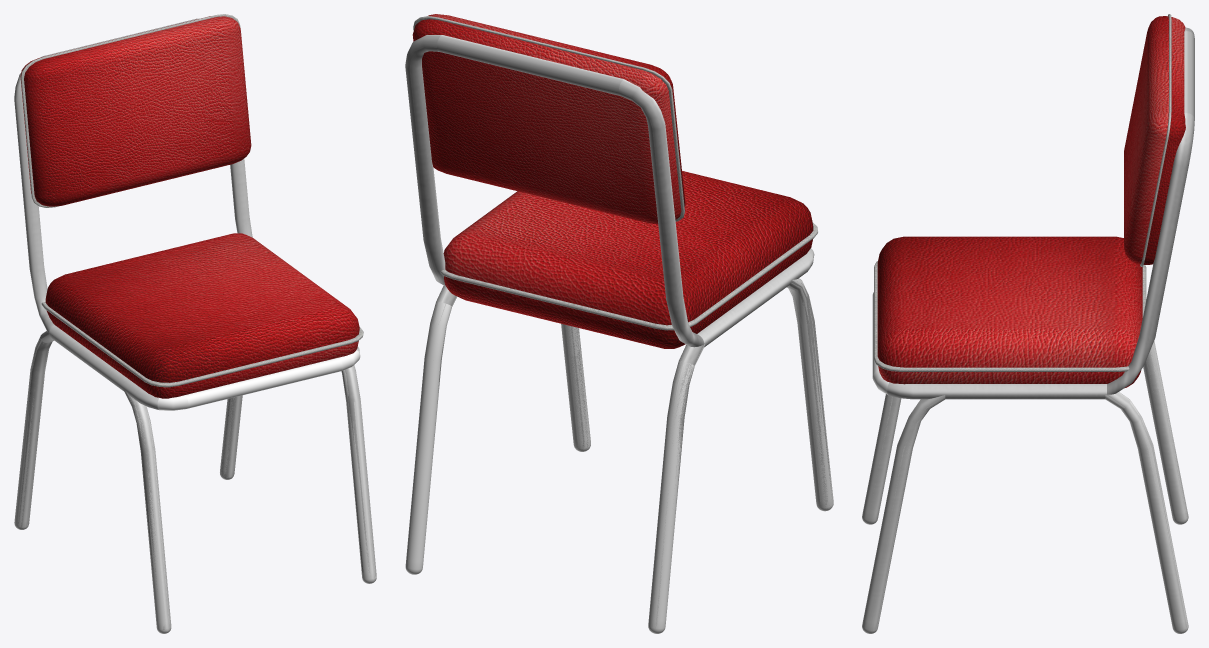
The model's file is stoel We are cooked.fbx.
3 views of the same model, side by side, from view 1: azimuth 30°, elevation 25°; view 2: azimuth 150°, elevation 25°; view 3: azimuth 270°, elevation 25° (orthographic). The views are drawn at different scales.
Visible parts, largest first — view 1: zitting, leuning, buizen zitting, voorpoten.001, achterpoten.001; view 2: zitting, leuning, buizen zitting, achterpoten.001, voorpoten.001; view 3: zitting, buizen zitting, leuning, achterpoten.001, voorpoten.001.
Part boxes in pixels (left/top/right/bottom): zitting: left=41, top=233, right=363, bottom=398; leuning: left=20, top=14, right=251, bottom=207; buizen zitting: left=14, top=18, right=376, bottom=633; voorpoten.001: left=123, top=370, right=376, bottom=633; achterpoten.001: left=14, top=334, right=237, bottom=529; zitting: left=440, top=171, right=817, bottom=348; leuning: left=412, top=14, right=685, bottom=224; buizen zitting: left=405, top=35, right=831, bottom=633; achterpoten.001: left=406, top=296, right=705, bottom=633; voorpoten.001: left=562, top=278, right=833, bottom=511; zitting: left=874, top=236, right=1146, bottom=388; buizen zitting: left=862, top=27, right=1194, bottom=633; leuning: left=1124, top=14, right=1185, bottom=266; achterpoten.001: left=1105, top=341, right=1188, bottom=633; voorpoten.001: left=862, top=395, right=945, bottom=633.
Bounding box in the file's own units: 42.62 × 87.68 × 51.45.
